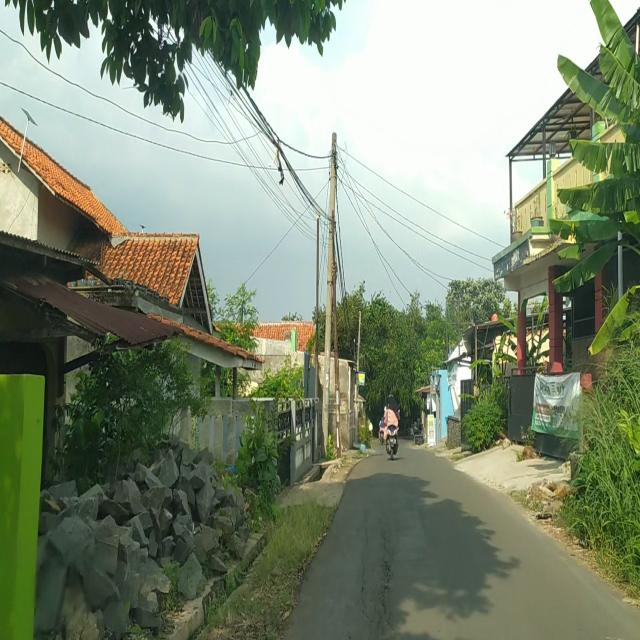Drain Hole: (354, 511, 401, 640)
